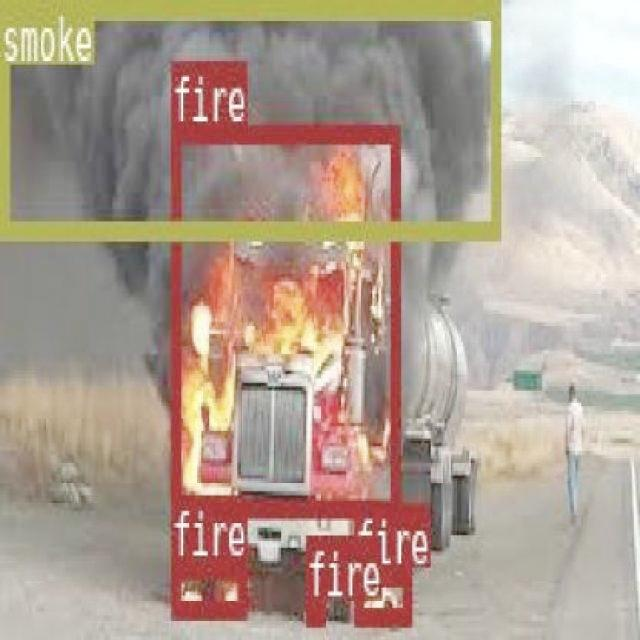fire: (171, 122, 397, 512), (170, 556, 244, 616), (352, 566, 410, 622), (305, 595, 324, 620)
smoke: (0, 0, 497, 234)
